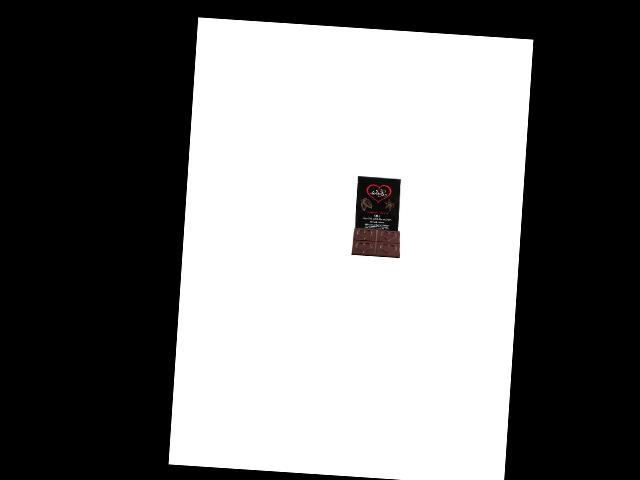chocolate: (349, 175, 408, 261)
